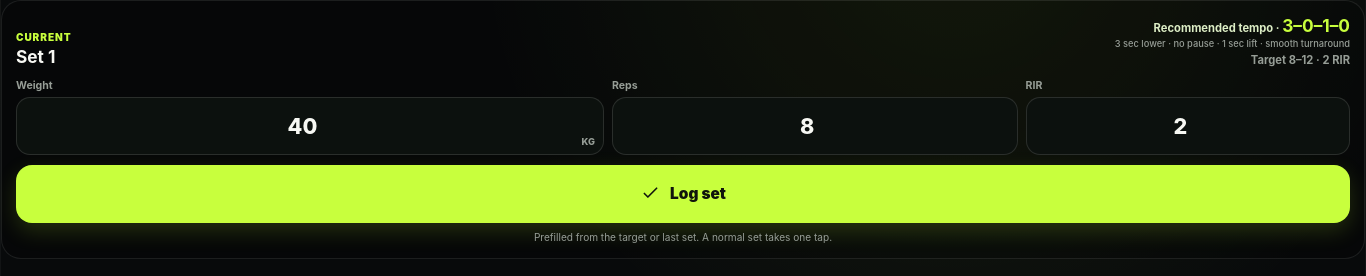
Phase 8 set submission hardening › rejects zero repetitions before persistence
Replace the text in the number field labelled "Reps" with "0". click: [815, 126]
box: [612,97,1018,155]
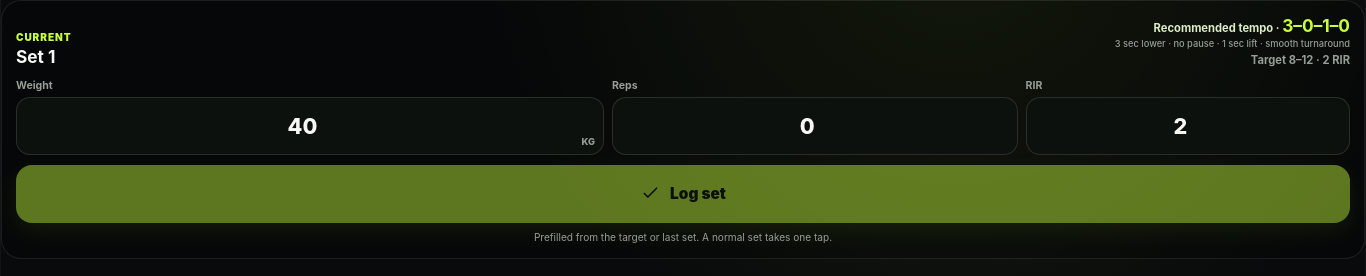
Now the button "Log set" is disabled, box [16,165,1350,223]
